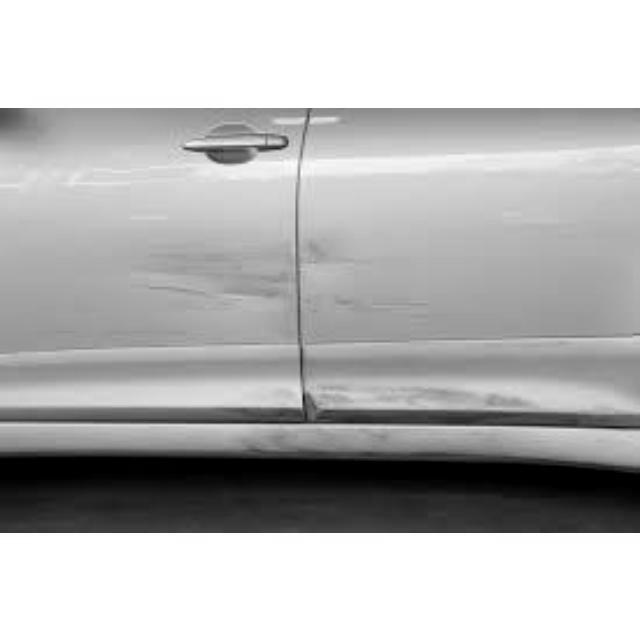Runningboard-Damage: (6, 401, 431, 463)
doorouter-dent: (296, 109, 638, 423), (5, 107, 300, 421)
